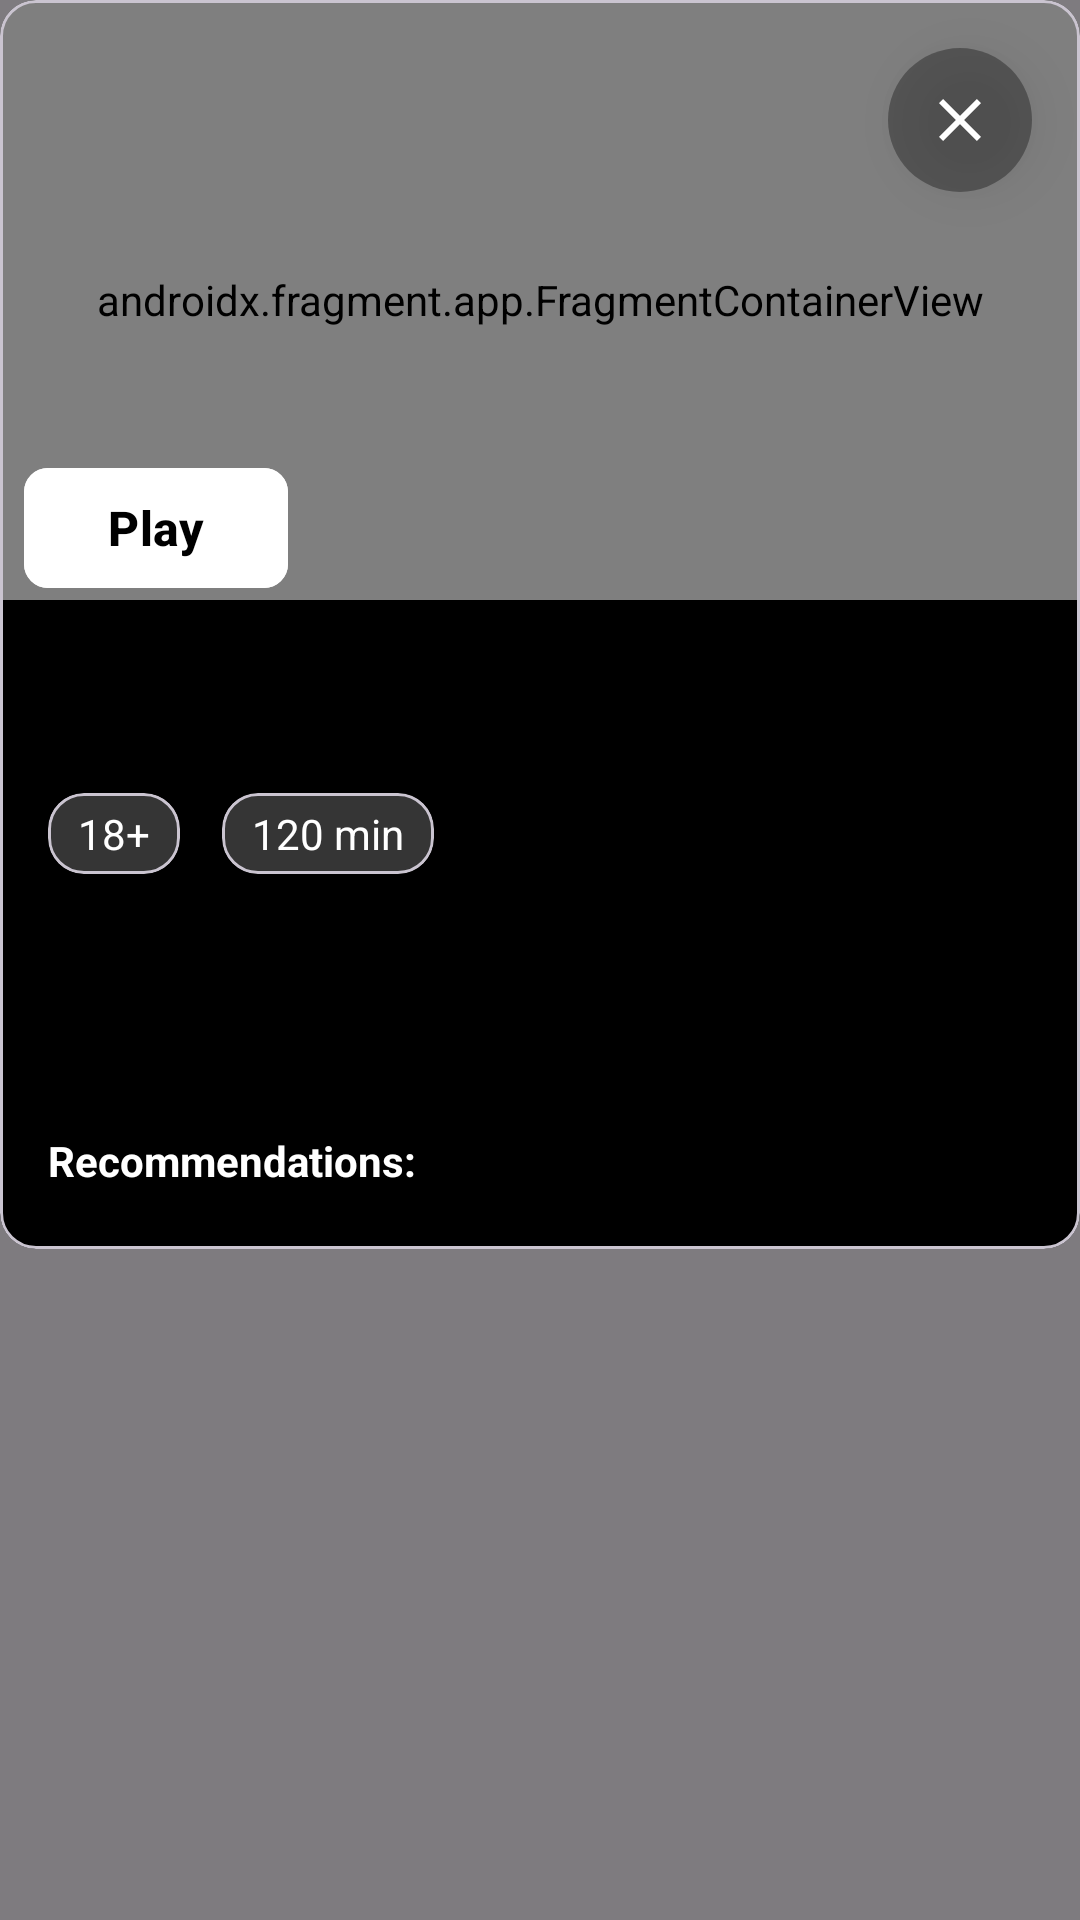

Icons on this 1080 x 1920 Android screen, each with the point to tap as (x,y):
close: (960,120)
